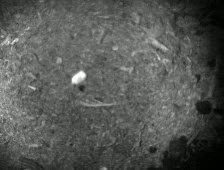corn: (70, 69, 88, 86)
